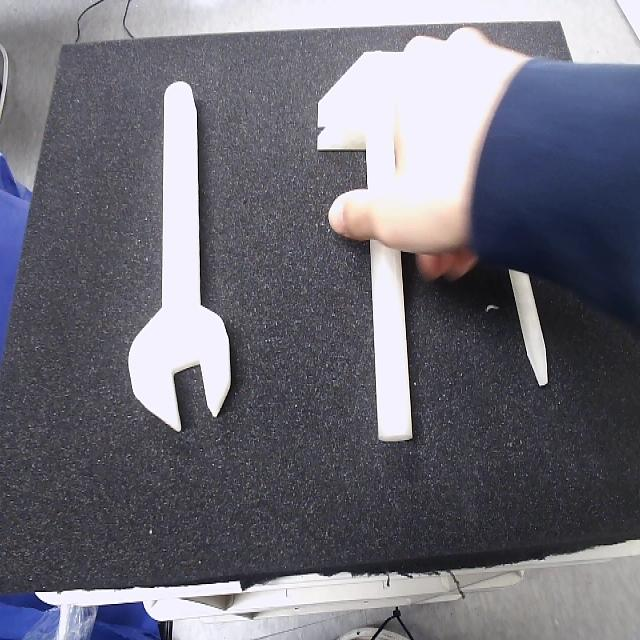Spanner: (127, 81, 233, 435)
